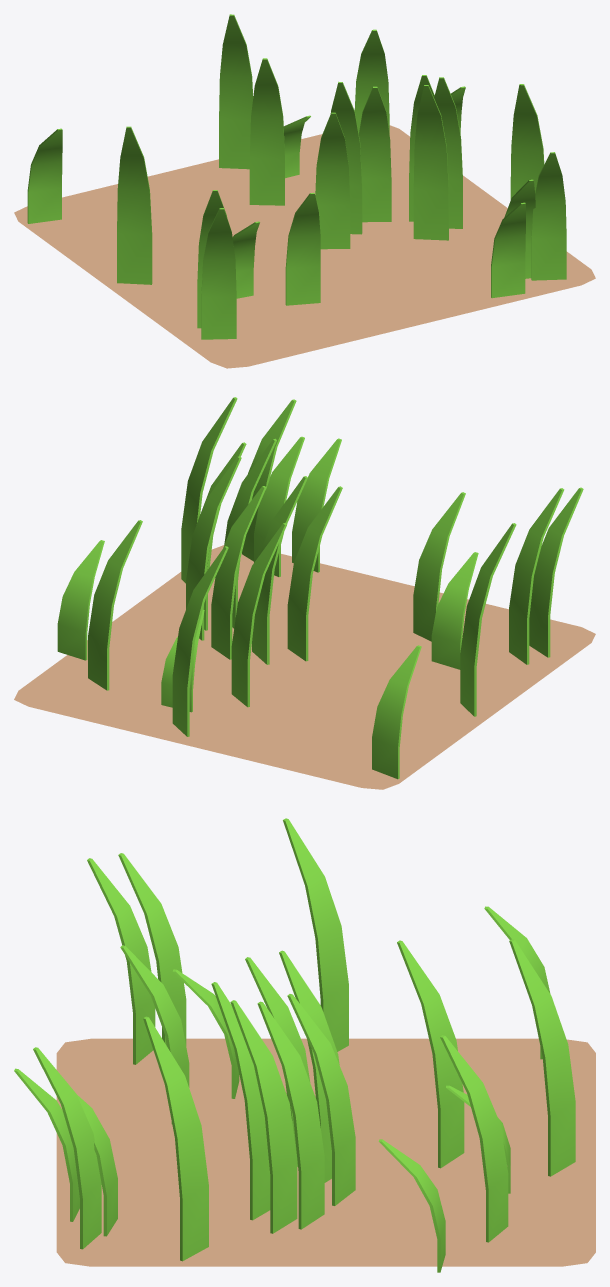
The model's file is grass.gltf.
3 renders of one model, top to bottom at view 1: azimuth 30°, elevation 25°; view 2: azimuth 150°, elevation 25°; view 3: azimuth 270°, elevation 25°, orthographic. The views are drawn at different scales.
Parts seen in each view (by area): view 1: Plane; view 2: Plane; view 3: Plane.
Part boxes in pixels (bbox=[...]): Plane: bbox=[14, 14, 595, 368]; Plane: bbox=[14, 397, 595, 789]; Plane: bbox=[14, 818, 595, 1272].
Bounding box in the file's own units: 1.04 × 0.4513 × 1.08.
